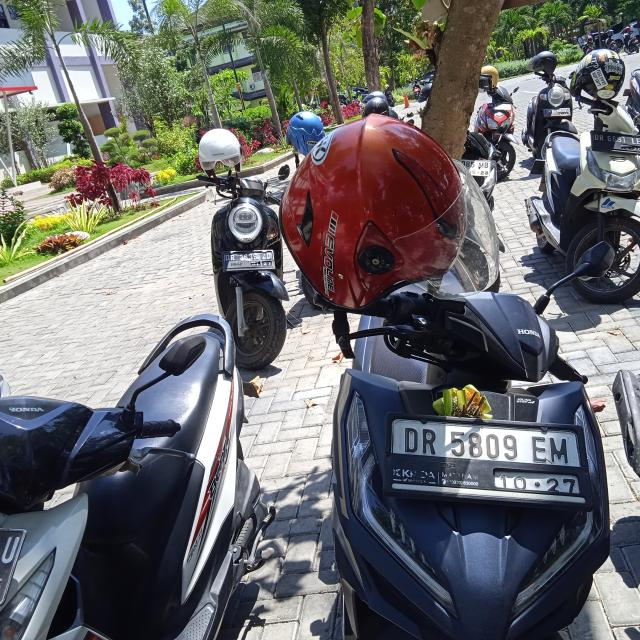plate: (388, 413, 590, 507), (589, 129, 640, 155), (222, 248, 276, 272)
